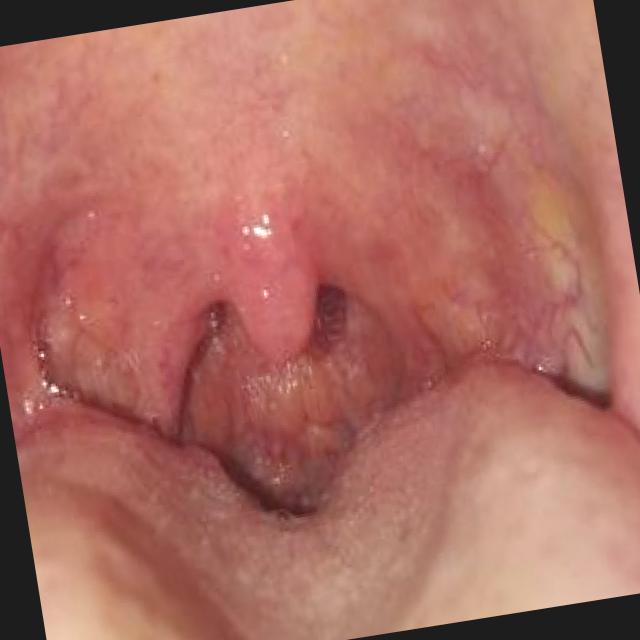Non Pharyngitis: (331, 100, 609, 416), (0, 135, 244, 414)
